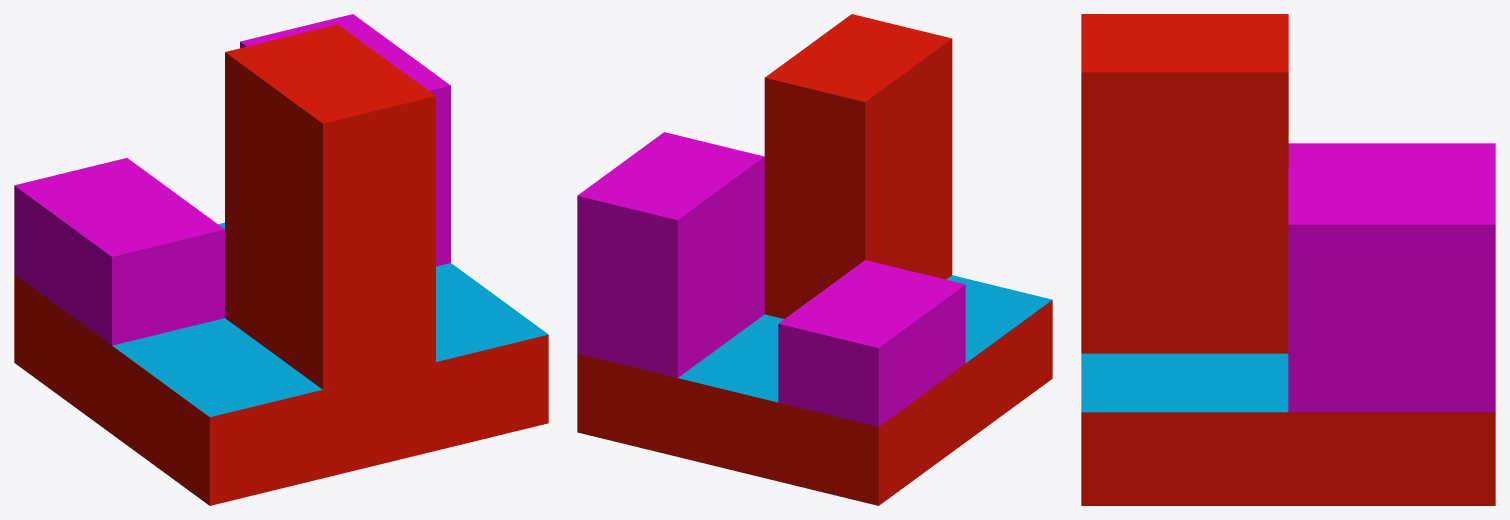
3 renders of one model, left to right at view 1: azimuth 30°, elevation 25°; view 2: azimuth 150°, elevation 25°; view 3: azimuth 270°, elevation 25°, orthographic. The views are drawn at different scales.
Visible parts, largest first — view 1: Cube; view 2: Cube; view 3: Cube.
Part boxes in pixels (left/top/right/bottom): Cube: left=14, top=14, right=548, bottom=505; Cube: left=577, top=14, right=1052, bottom=505; Cube: left=1081, top=14, right=1495, bottom=505.
Size of the model in its own units: 2 by 2 by 2.
